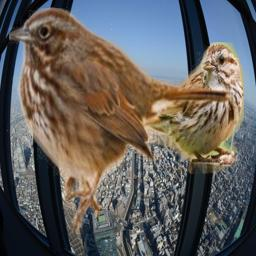Sparrow: (9, 7, 231, 234), (112, 42, 244, 174)
